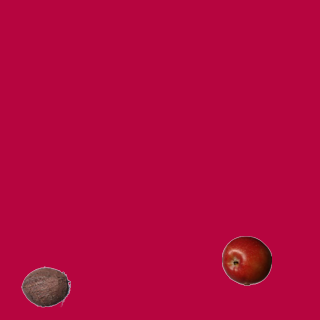Apple Braeburn: (221, 235, 271, 285)
Cocos: (20, 261, 70, 311)
